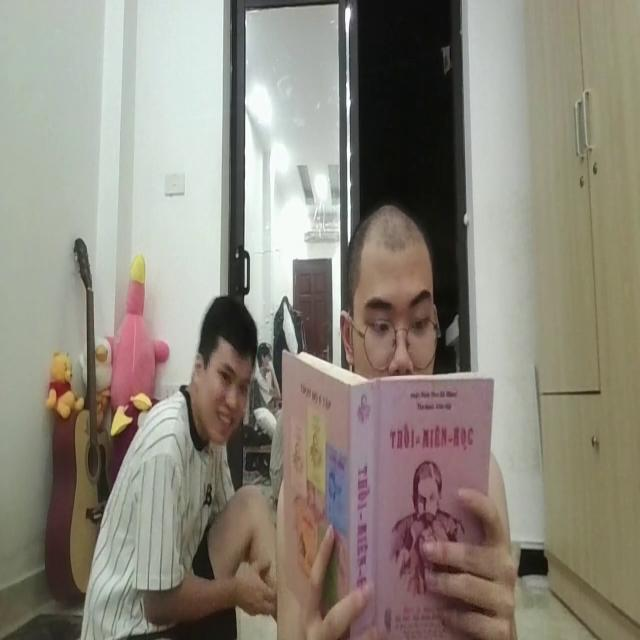book: (279, 342, 496, 636)
extra_person: (88, 295, 264, 638)
student: (334, 201, 446, 386)
